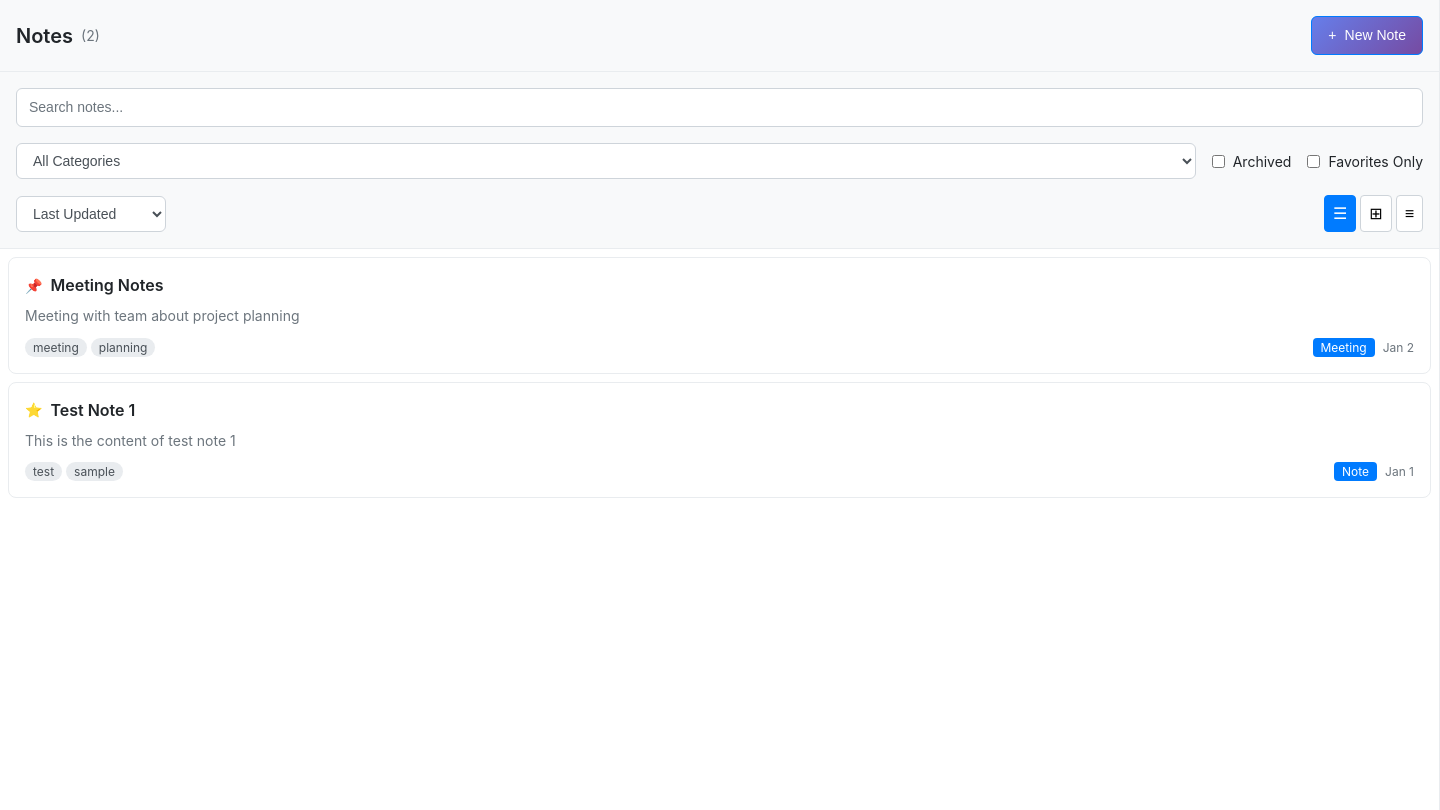
it: NotesList › filters notes by search query
The image size is (1440, 810).
Type "meeting" into the field with placeholder "Search notes...".
click(720, 108); type("meeting")  # box x1=16 y1=88 x2=1423 y2=127
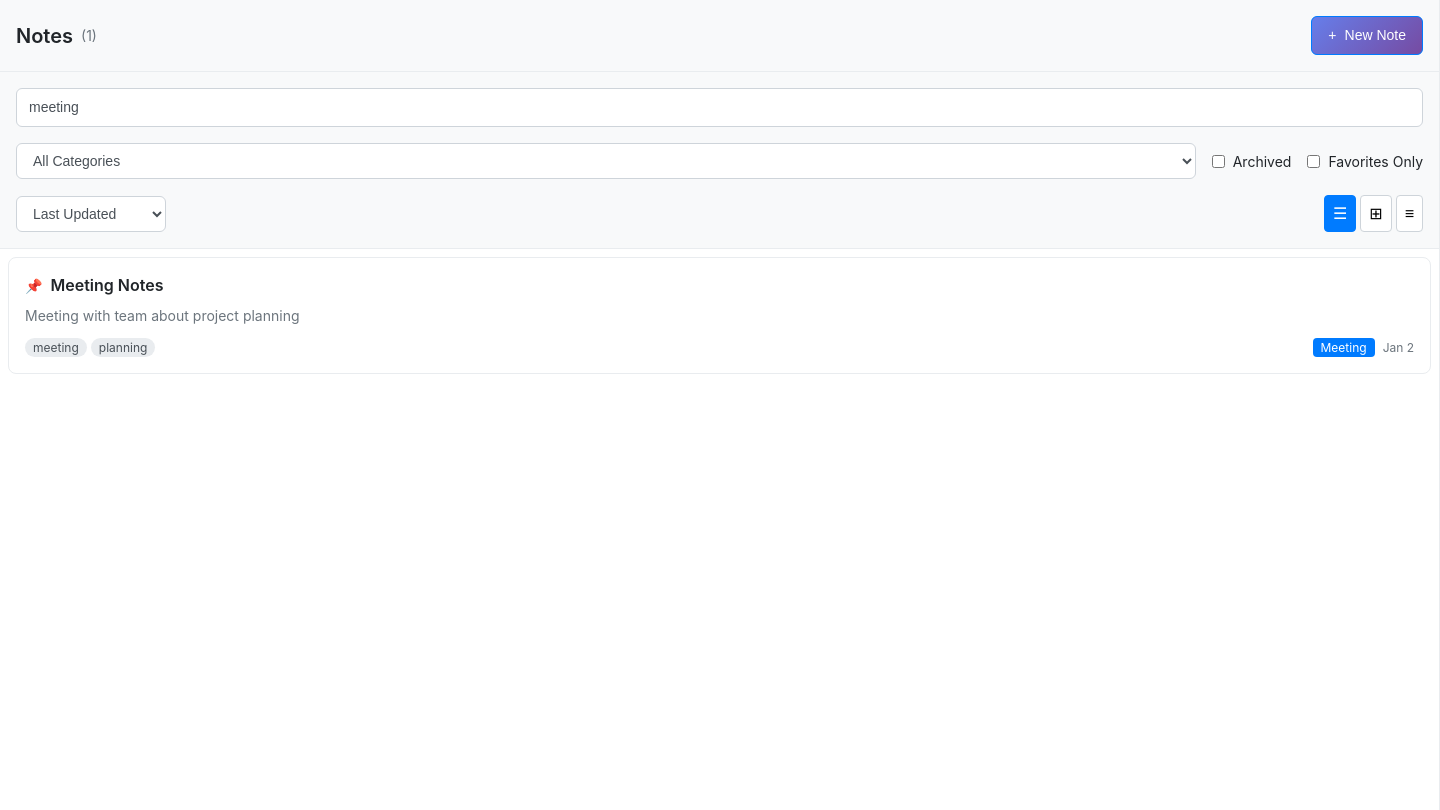
Expected: the heading "Meeting Notes" is shown, x1=50 y1=274 x2=164 y2=296
Expected: the heading "Test Note 1" is gone
